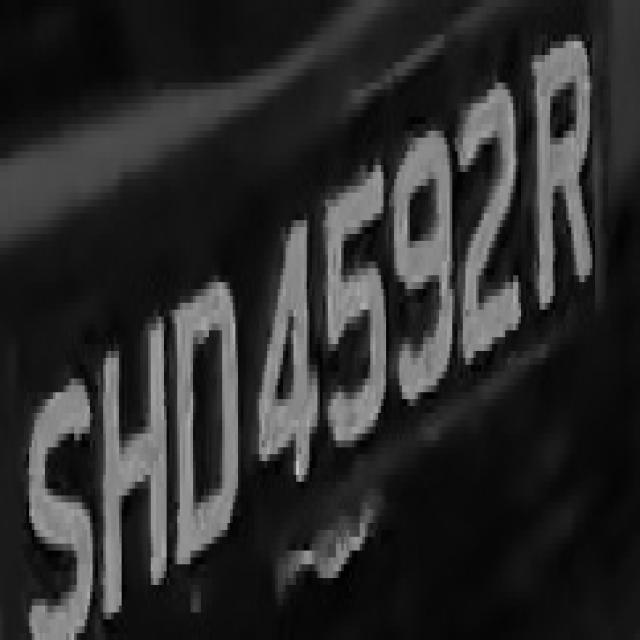2: (452, 82, 526, 378)
4: (241, 172, 328, 502)
5: (312, 158, 389, 482)
9: (383, 131, 463, 420)
D: (174, 255, 243, 571)
H: (101, 302, 177, 606)
R: (521, 7, 600, 330)
S: (24, 344, 98, 619)
